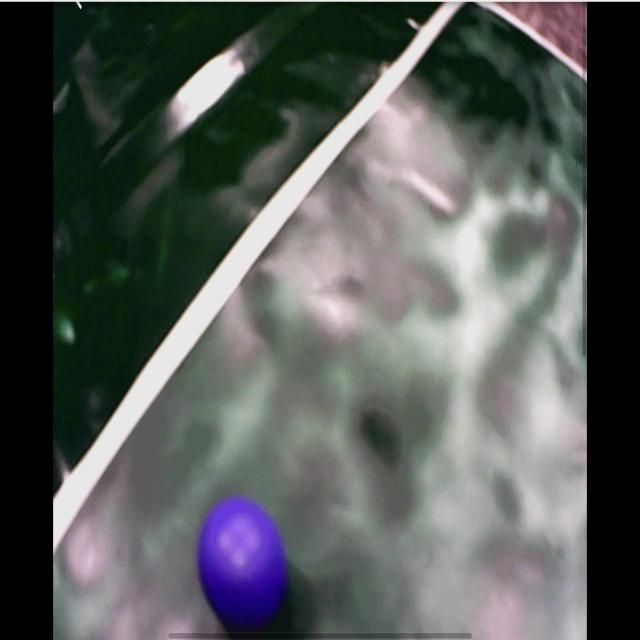ball: (200, 498, 286, 628)
